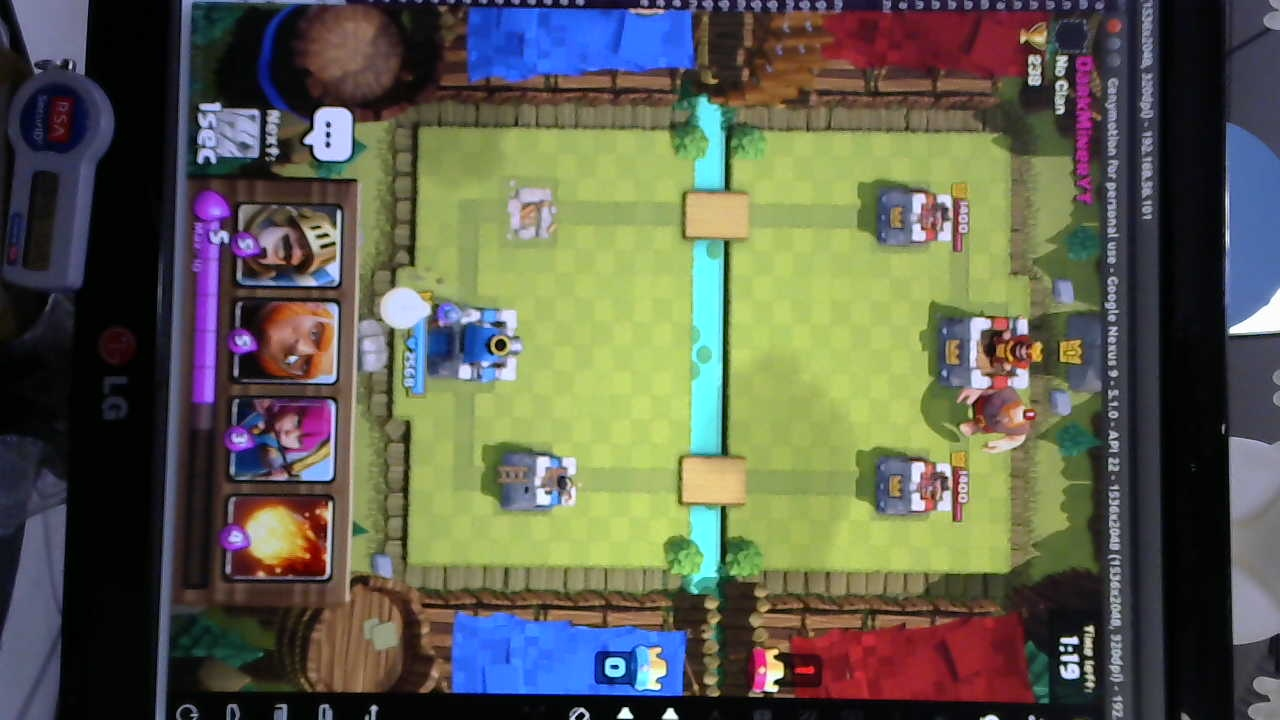arena: (497, 449, 579, 516)
darena: (504, 186, 557, 241)
earena: (868, 453, 956, 518), (872, 186, 959, 250)
eking: (936, 315, 1041, 391)
giant: (951, 387, 1034, 450)
king: (424, 304, 524, 385)
musketeer: (431, 294, 460, 335)
